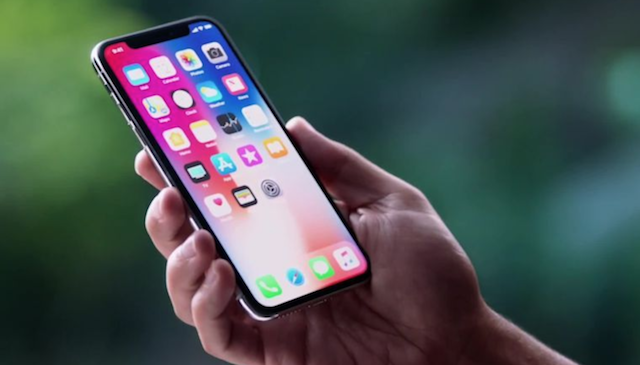phone: (82, 20, 374, 323)
